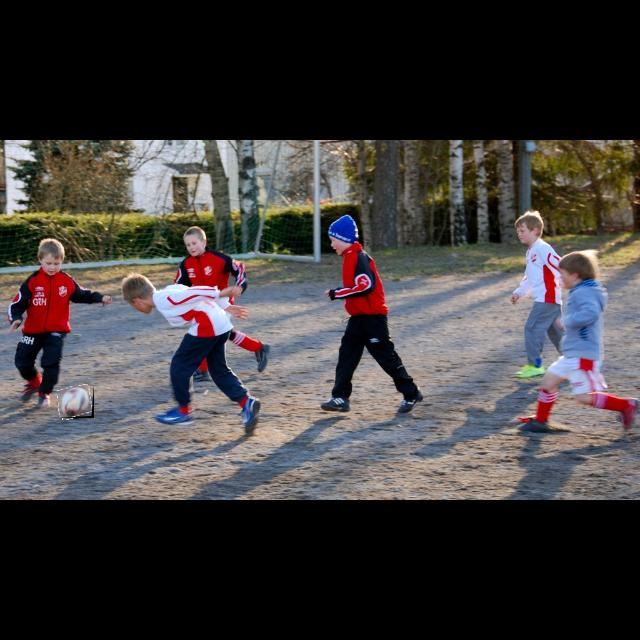Football: (58, 386, 94, 418)
